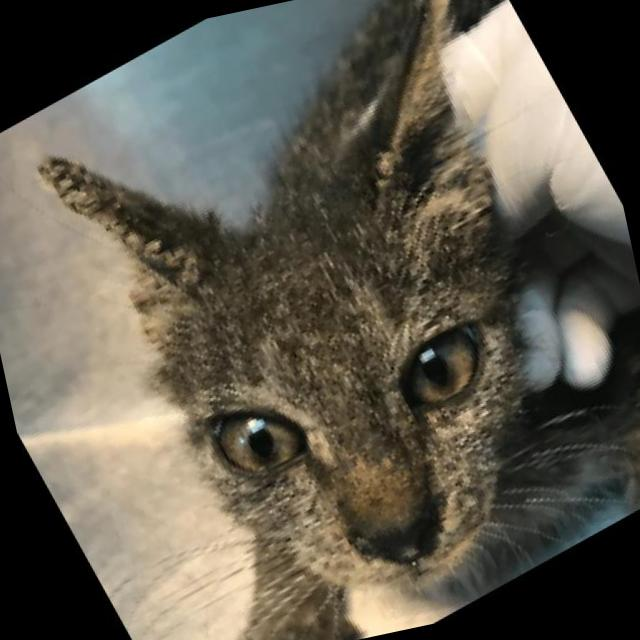Mange: (23, 155, 195, 287)
